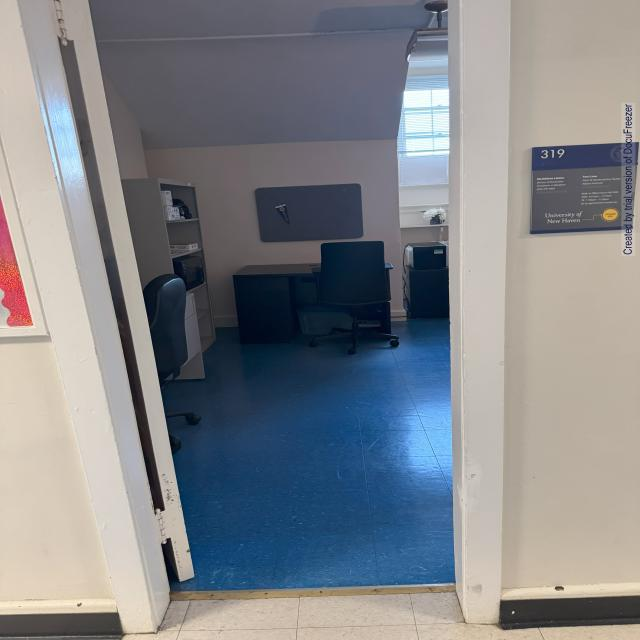Table: (229, 250, 416, 355)
chair: (308, 236, 394, 376)
